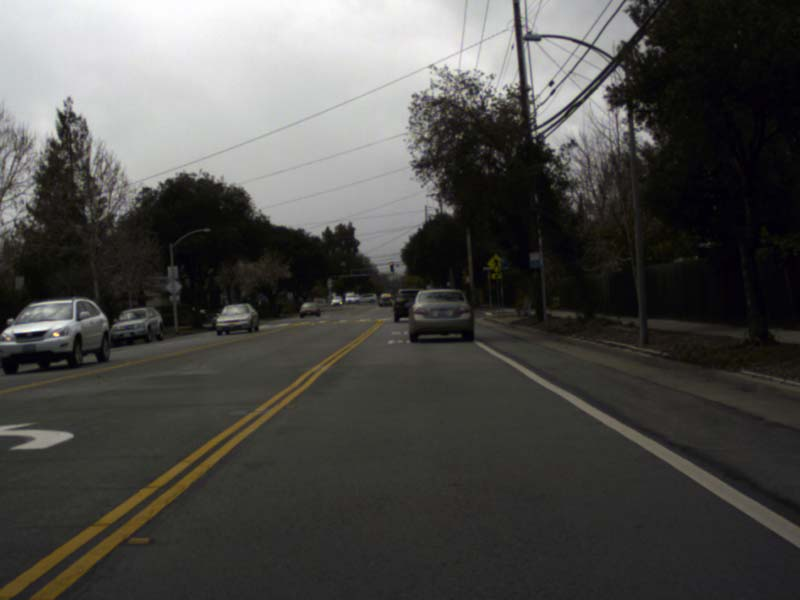Red: (389, 261, 394, 271)
